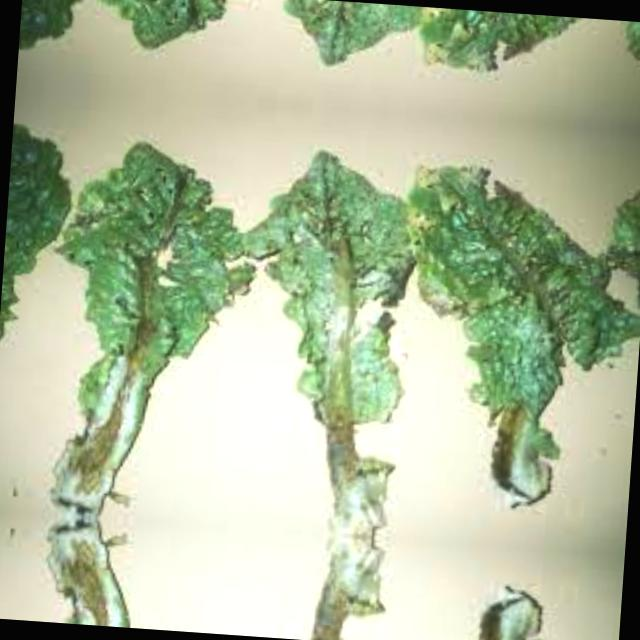Lettuce - Anthracnose: (392, 158, 640, 509), (39, 135, 258, 527), (234, 144, 427, 540), (31, 514, 230, 634), (226, 526, 400, 640), (421, 7, 640, 84), (381, 583, 621, 640), (266, 0, 437, 72), (70, 0, 267, 55)
